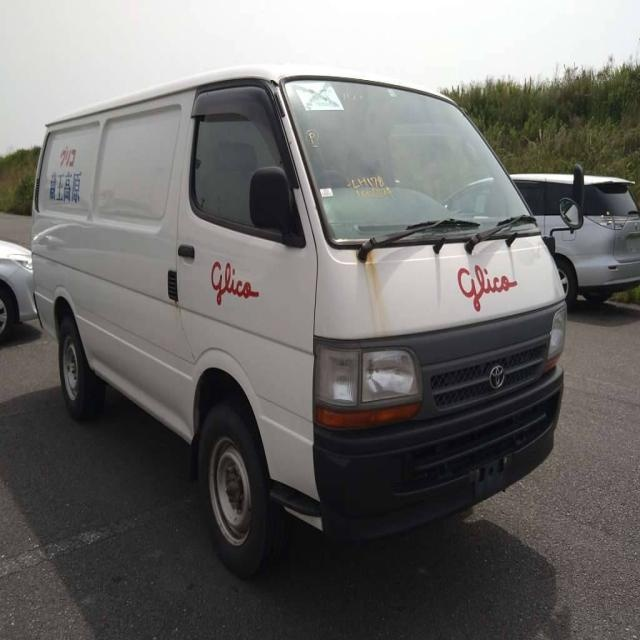Van: (29, 67, 565, 563)
